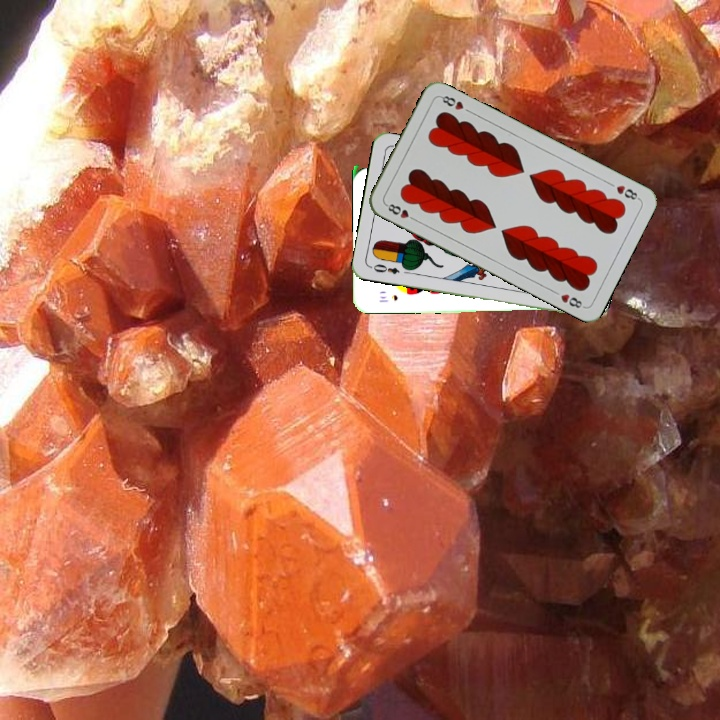EO: (369, 260, 402, 277)
H8: (382, 200, 419, 224), (612, 181, 642, 202)
S10: (375, 291, 400, 305)
